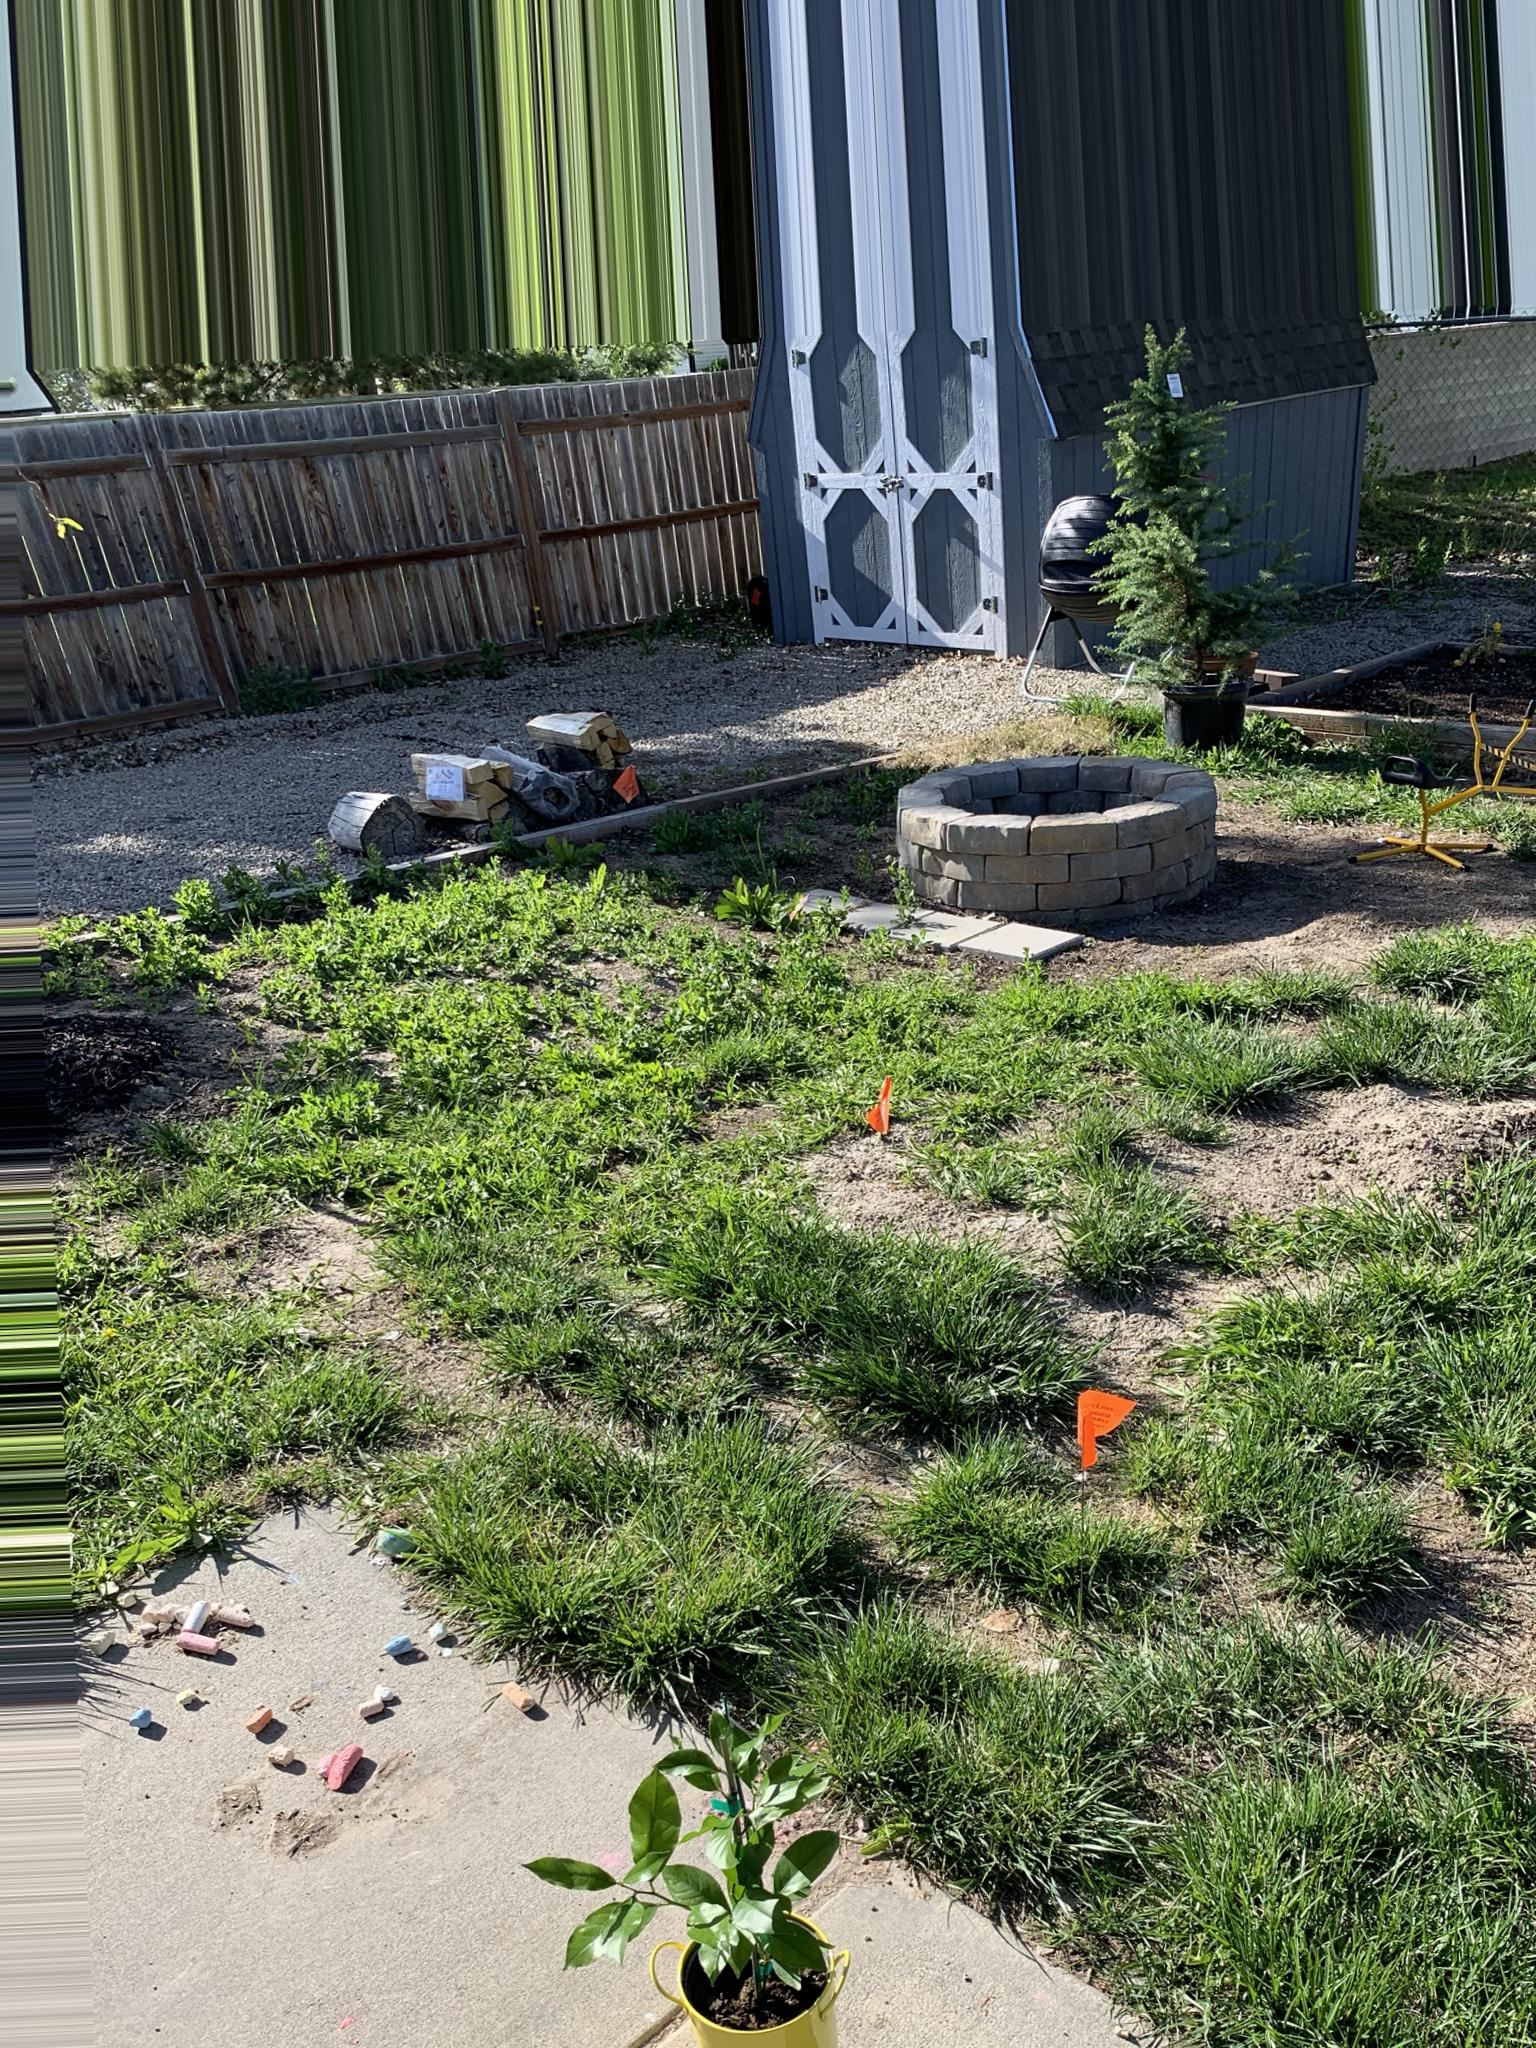patch: (142, 601, 1037, 716), (842, 1140, 1100, 1371), (1168, 1108, 1468, 1279), (1057, 900, 1338, 1008), (281, 1253, 410, 1340)
